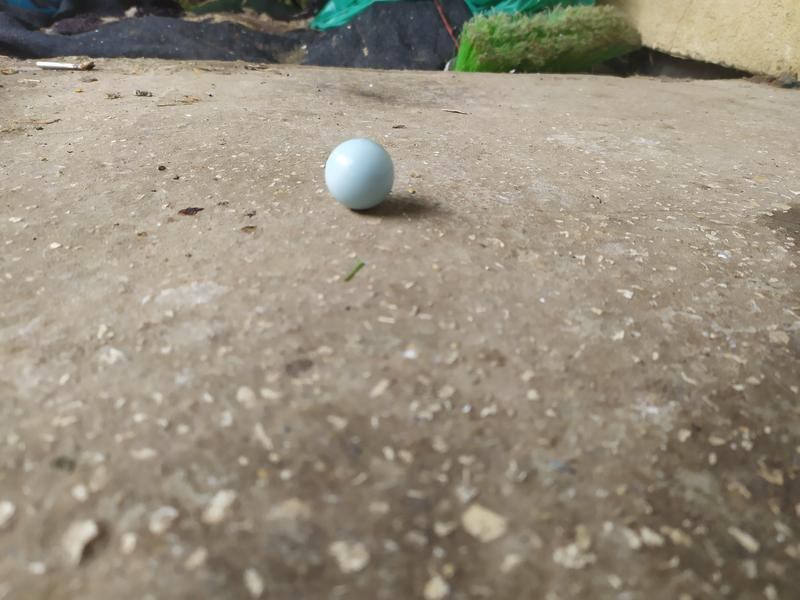Warning: (322, 135, 397, 213)
